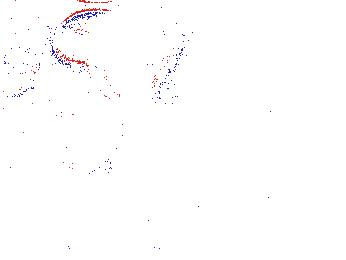moon jellyfish: (86, 1, 185, 105), (64, 76, 123, 178), (110, 120, 165, 209), (1, 1, 44, 96)
